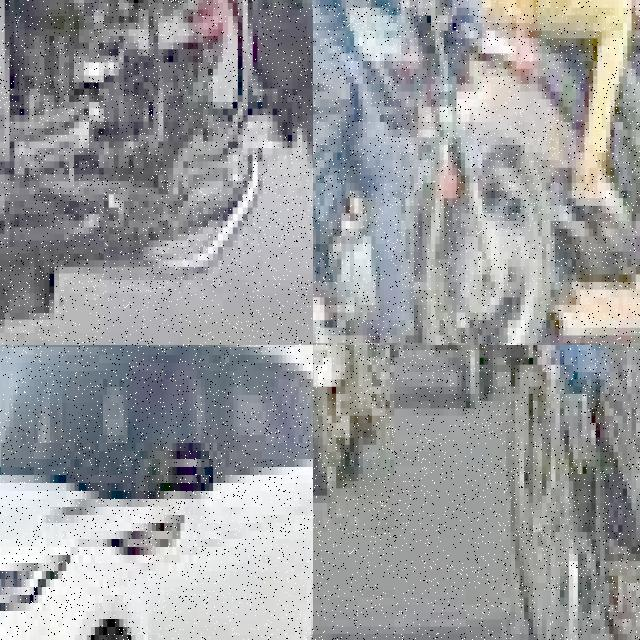bike: (0, 0, 313, 345), (313, 0, 563, 345), (422, 0, 640, 345), (313, 345, 407, 517), (434, 345, 510, 401)
car: (0, 345, 313, 640)
